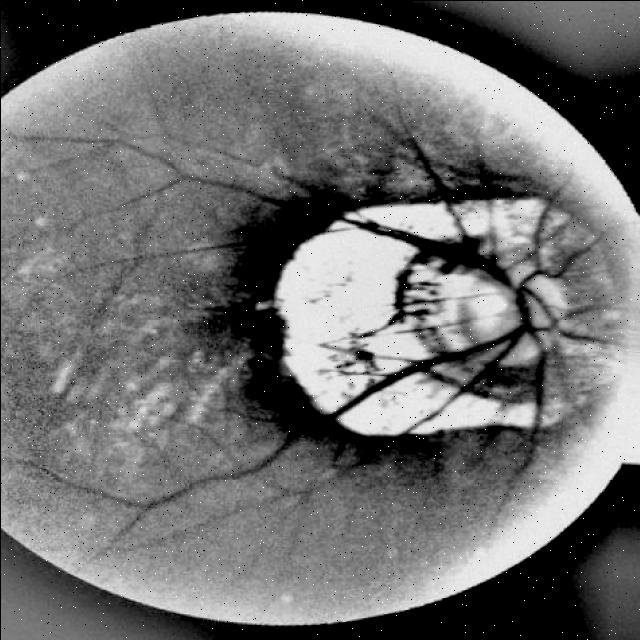Nerves: (243, 137, 563, 476)
Optic Disk: (259, 196, 569, 434)
